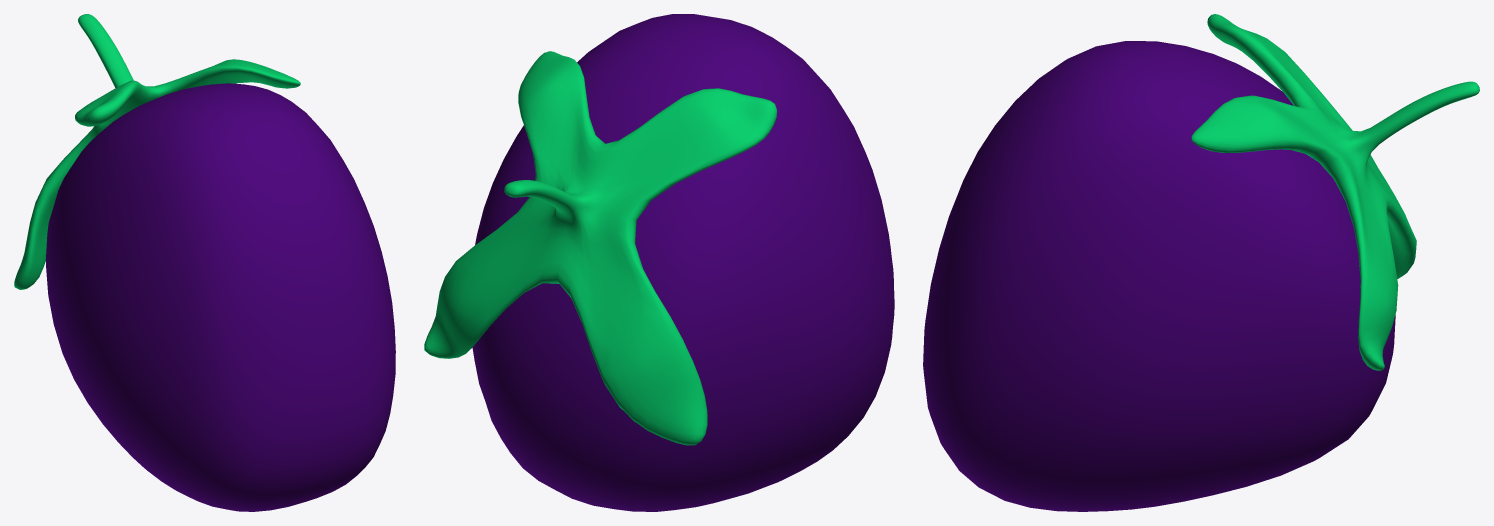
Rendered from purawberry.fbx.
3 renders of one model, left to right at view 1: azimuth 30°, elevation 25°; view 2: azimuth 150°, elevation 25°; view 3: azimuth 270°, elevation 25°, orthographic. The views are drawn at different scales.
Visible parts, largest first — view 1: polySurface4; view 2: polySurface4; view 3: polySurface4.
Part boxes in pixels (box(x1,y1,x2,y2)): polySurface4: box(14, 14, 395, 511); polySurface4: box(424, 14, 894, 511); polySurface4: box(923, 14, 1479, 511).
Bounding box in the file's own units: 1.17 × 1.52 × 1.76.
